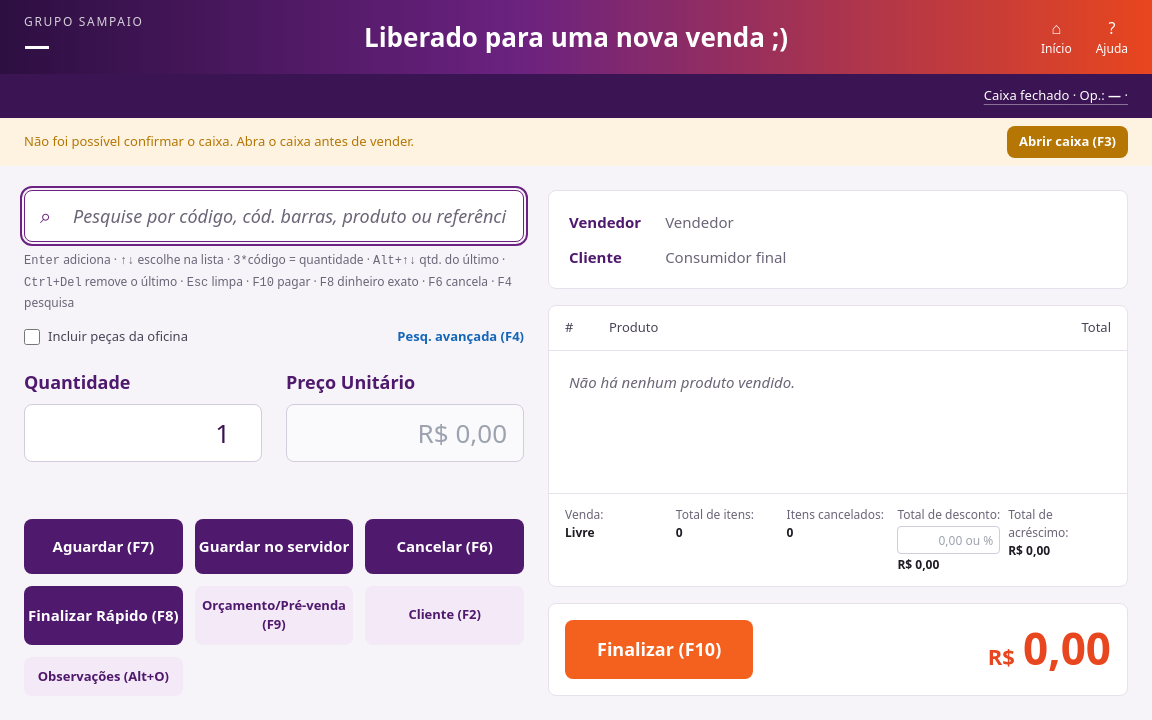
Test: o desconto de rodapé, digitado em reais ou em porcentagem › dentro da alçada a venda passa sem gestor
Step 1. Type "7890000001111" into the field labelled "Pesquise por código, cód. barras, produto ou referência" → (274, 216), box [24,190,524,242]
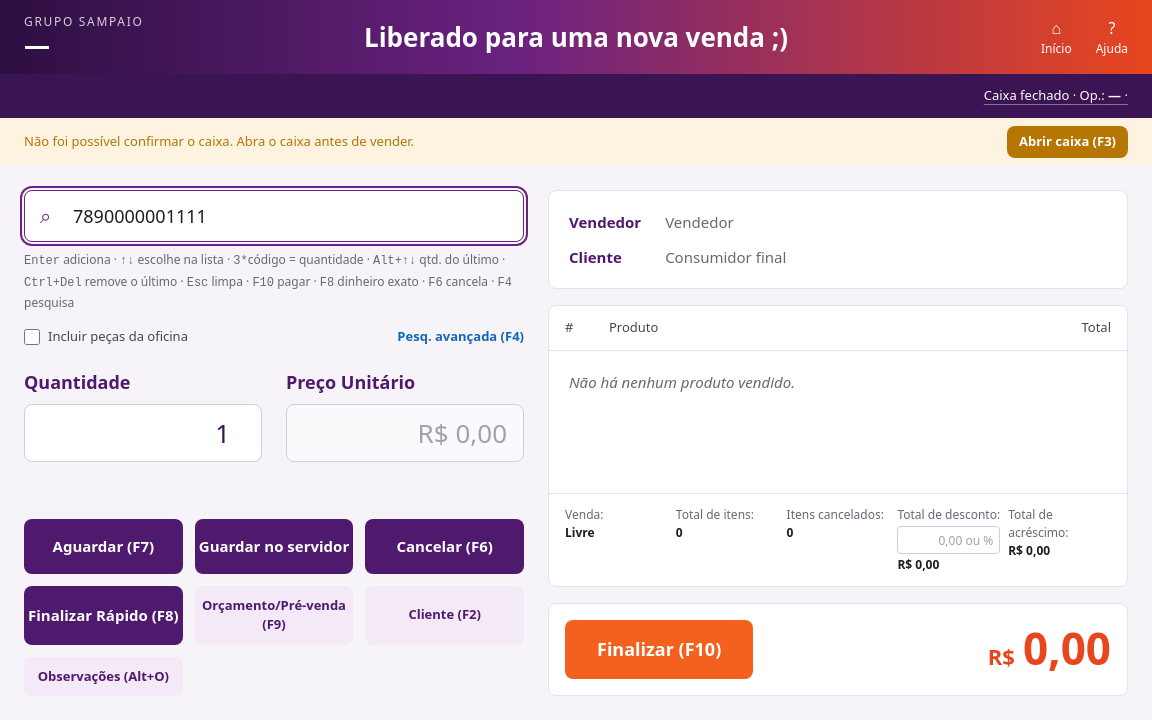
Step 2. Press Enter in the field named "Pesquise por código", box [24,190,524,242]
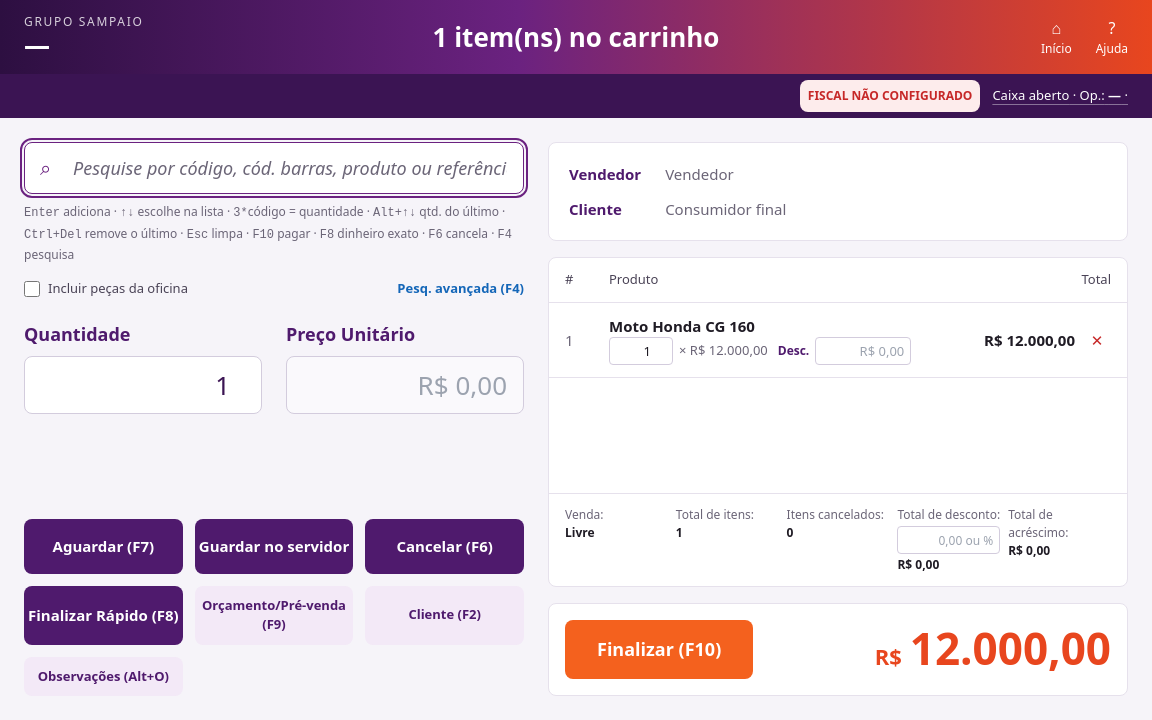
Now the button named "Remover " is shown, box [1083,324,1111,356]
Step 3. Type "500" into the field named "Desconto da venda (R$ ou %)" → (949, 540), box [897,526,1000,554]
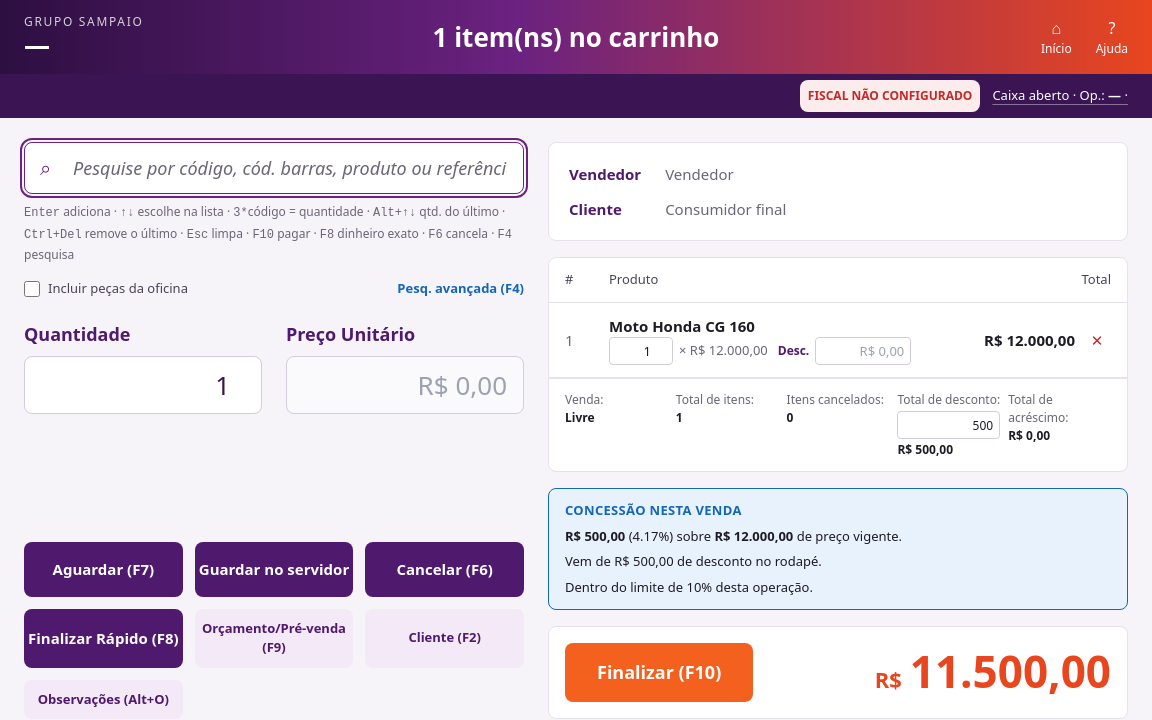
Step 4. Click the button "Finalizar Rápido (F8)" → (103, 638), box [24,608,183,668]
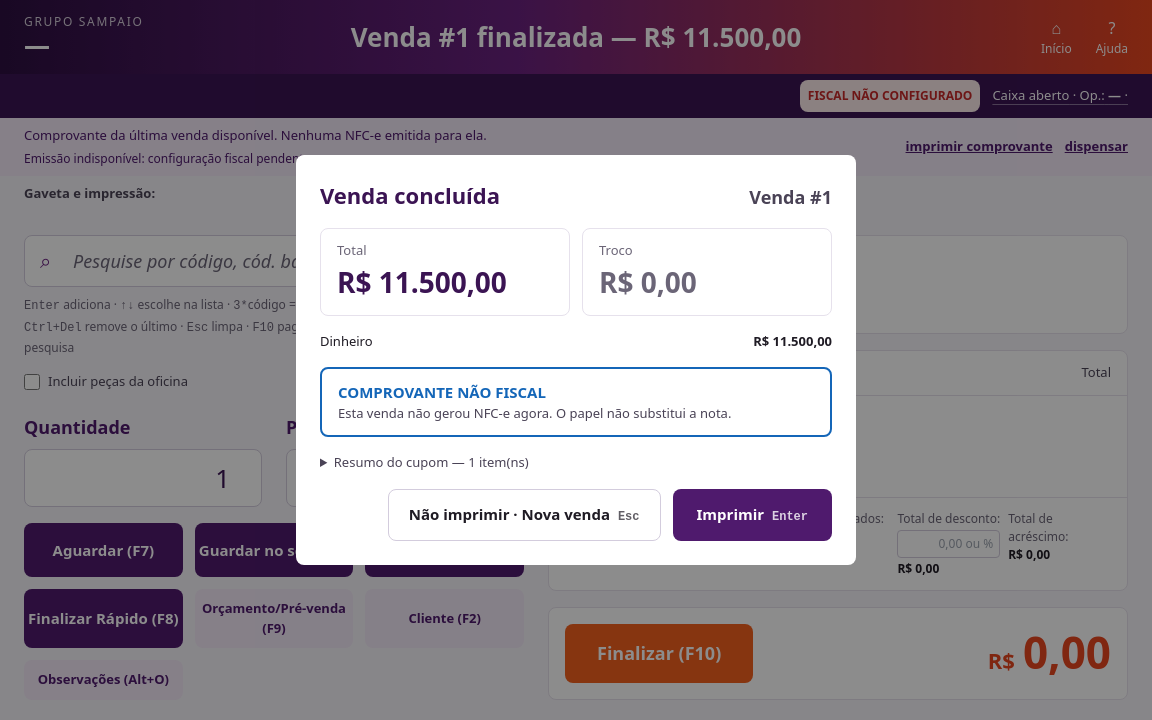
Now the text "Venda #1 finalizada — R$ 11.500,00" is shown, box [335,18,817,56]
